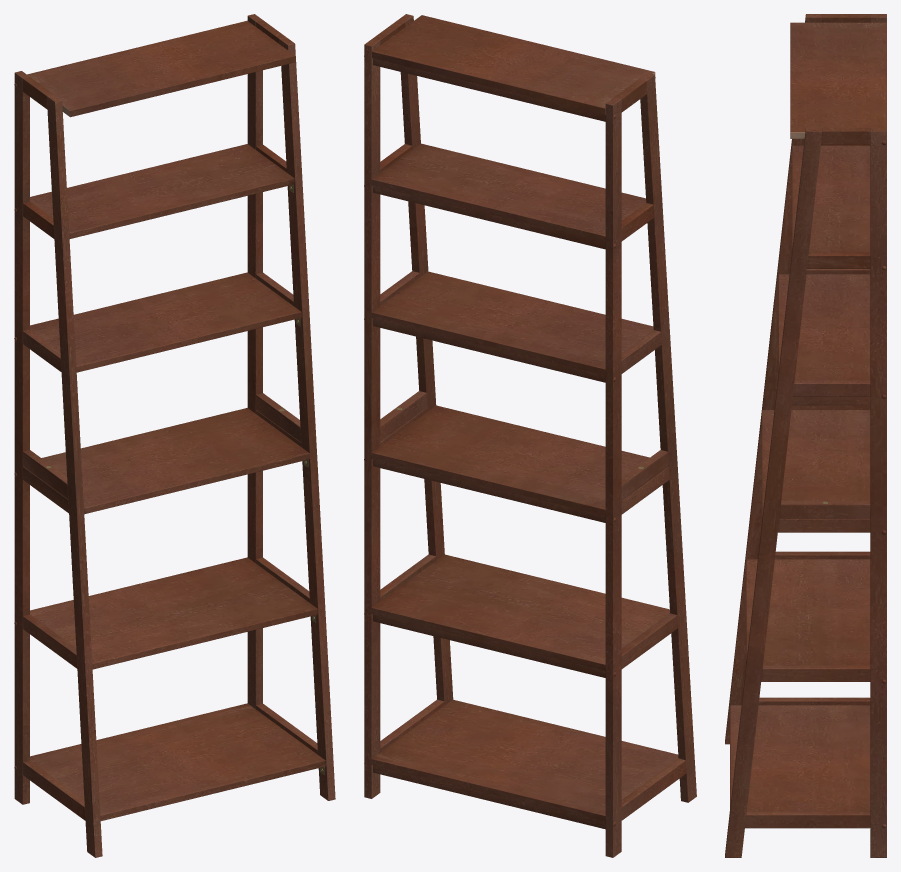
The model's file is abo-B07PSZHDNK.glb.
The picture shows the model from 3 angles, left to right: view 1: azimuth 30°, elevation 25°; view 2: azimuth 150°, elevation 25°; view 3: azimuth 270°, elevation 25°; orthographic projection. The views are drawn at different scales.
Bounding box in the file's own units: 0.6599 × 1.89 × 0.382.
Materials: 1 (1 with a texture image).
